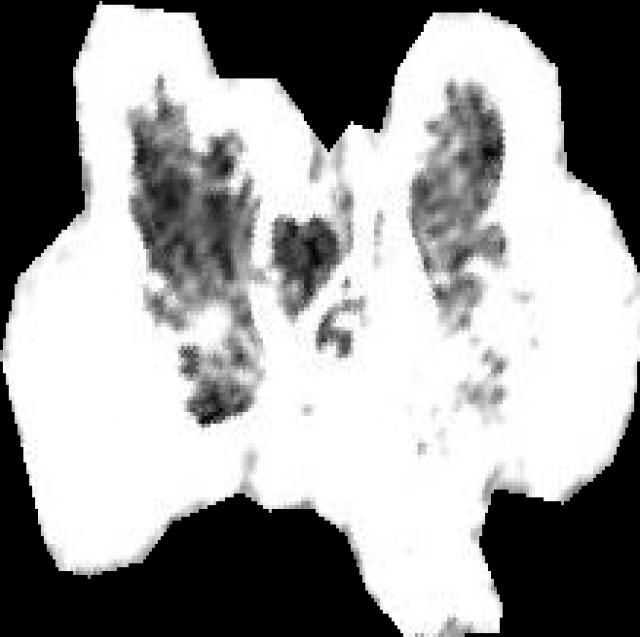tumor_moderate_chance: (0, 1, 640, 637)
